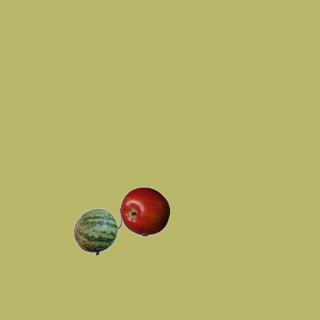Apple Braeburn: (119, 186, 169, 236)
Watermelon: (72, 206, 122, 256)
